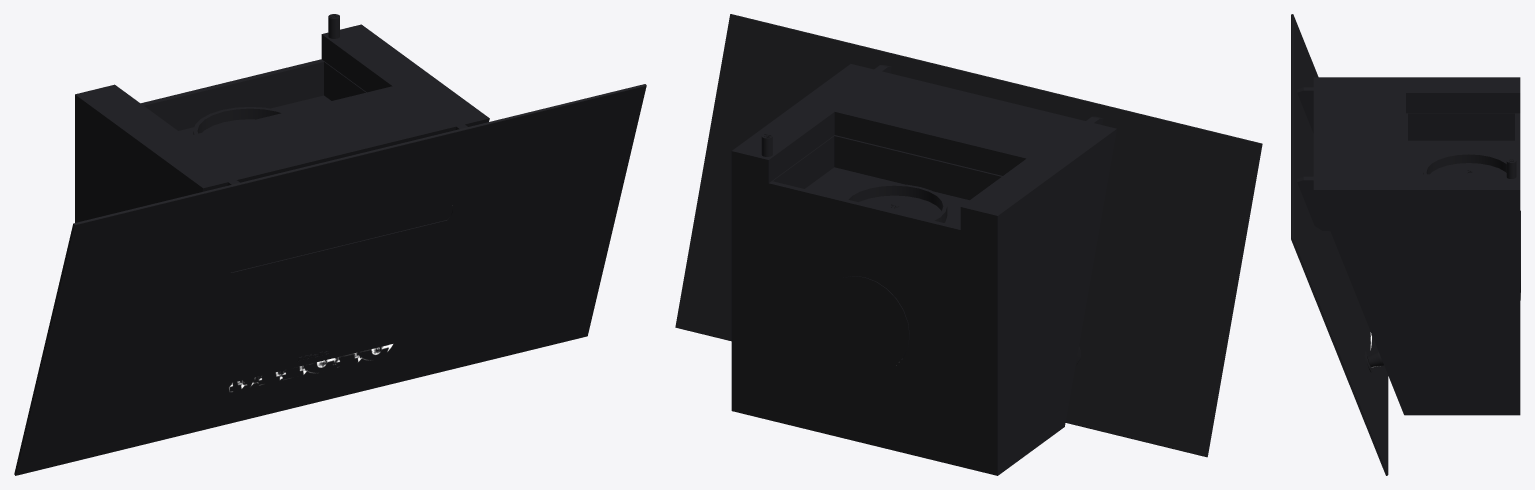
File: DAH_1950_Active.glb
The picture shows the model from 3 angles, left to right: view 1: azimuth 30°, elevation 25°; view 2: azimuth 150°, elevation 25°; view 3: azimuth 270°, elevation 25°; orthographic projection. The views are drawn at different scales.
Visible parts, largest first — view 1: 12559260_NER_DAH1950_OBSW 28H1950B_NER_12559260_DAH1950_ffda; view 2: 12559260_NER_DAH1950_OBSW 28H1950B_NER_12559260_DAH1950_ffda; view 3: 12559260_NER_DAH1950_OBSW 28H1950B_NER_12559260_DAH1950_ffda.
Boxes of the visible parts, <box> form: 12559260_NER_DAH1950_OBSW 28H1950B_NER_12559260_DAH1950_ffda: <box>14,14,646,475</box>; 12559260_NER_DAH1950_OBSW 28H1950B_NER_12559260_DAH1950_ffda: <box>675,14,1262,475</box>; 12559260_NER_DAH1950_OBSW 28H1950B_NER_12559260_DAH1950_ffda: <box>1291,14,1520,475</box>.
Bounding box in the file's own units: 0.898 × 0.4598 × 0.3884.
Materials: 3 (1 with a texture image).
